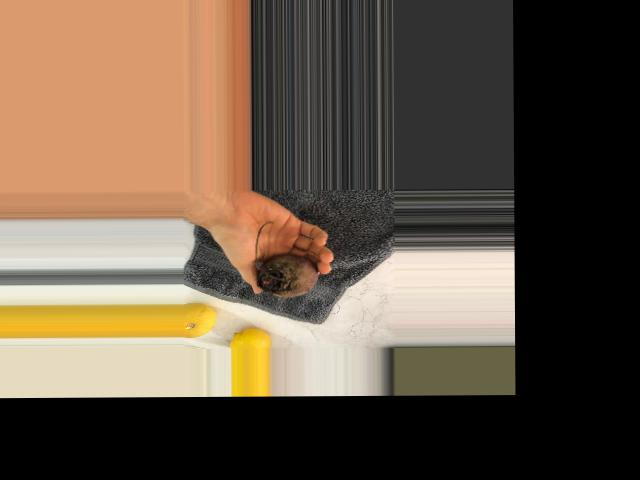beet: (257, 221, 319, 297)
